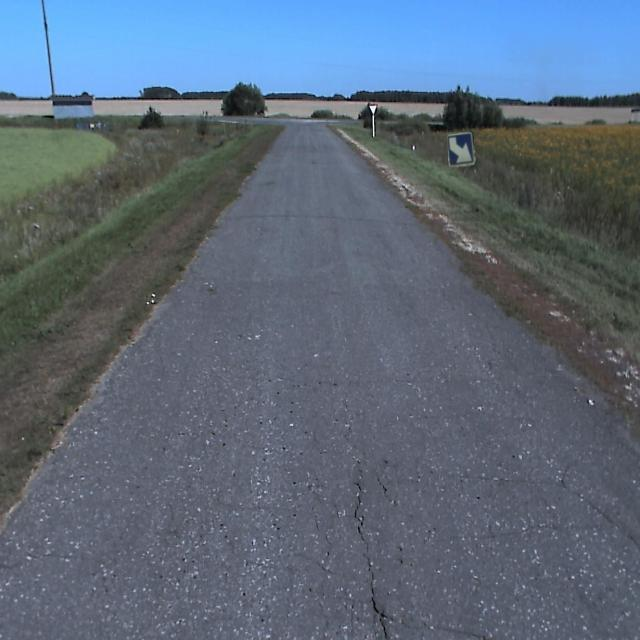road: (0, 121, 639, 639)
